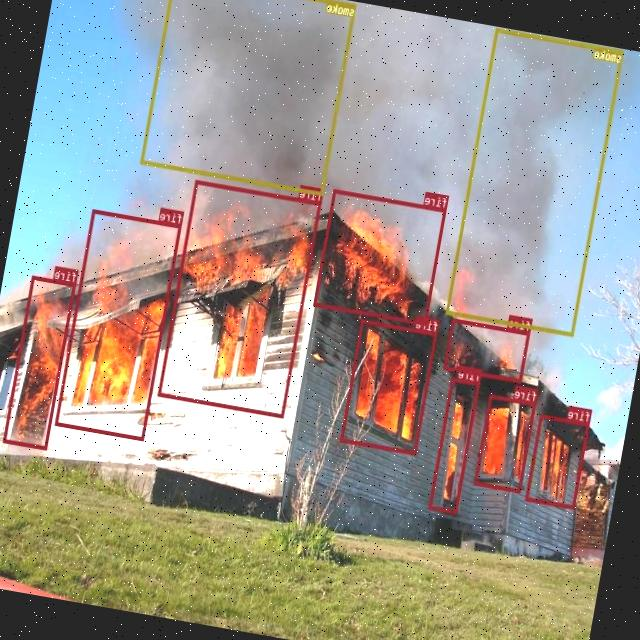fire: (158, 179, 322, 418), (54, 208, 182, 440), (314, 188, 446, 325), (340, 318, 438, 454), (2, 274, 76, 450), (428, 376, 481, 514), (524, 414, 590, 508), (474, 393, 536, 492), (444, 318, 531, 382)
smoke: (446, 27, 624, 336), (140, 0, 356, 195)
